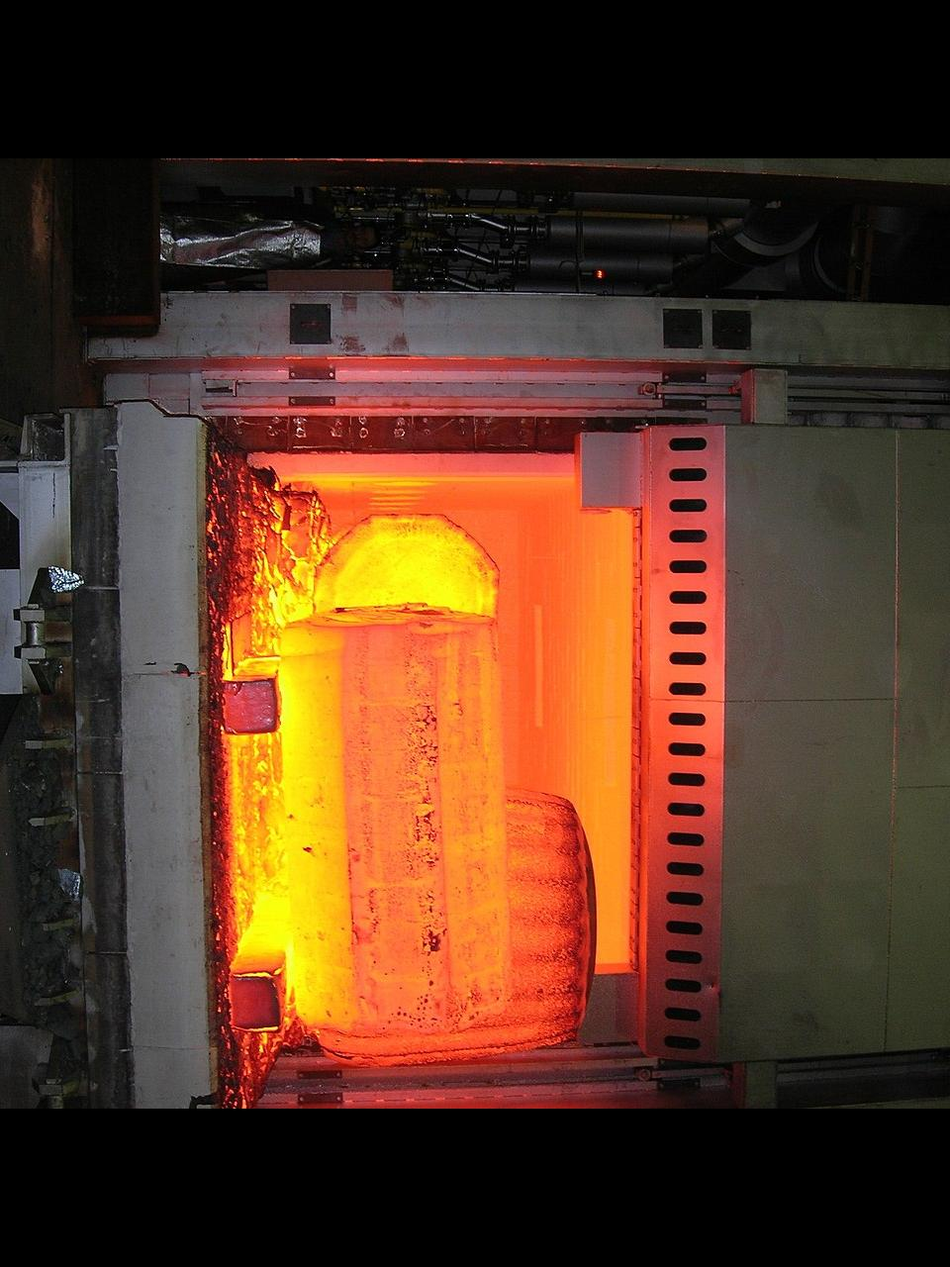controlled_fire: (163, 302, 833, 1109)
